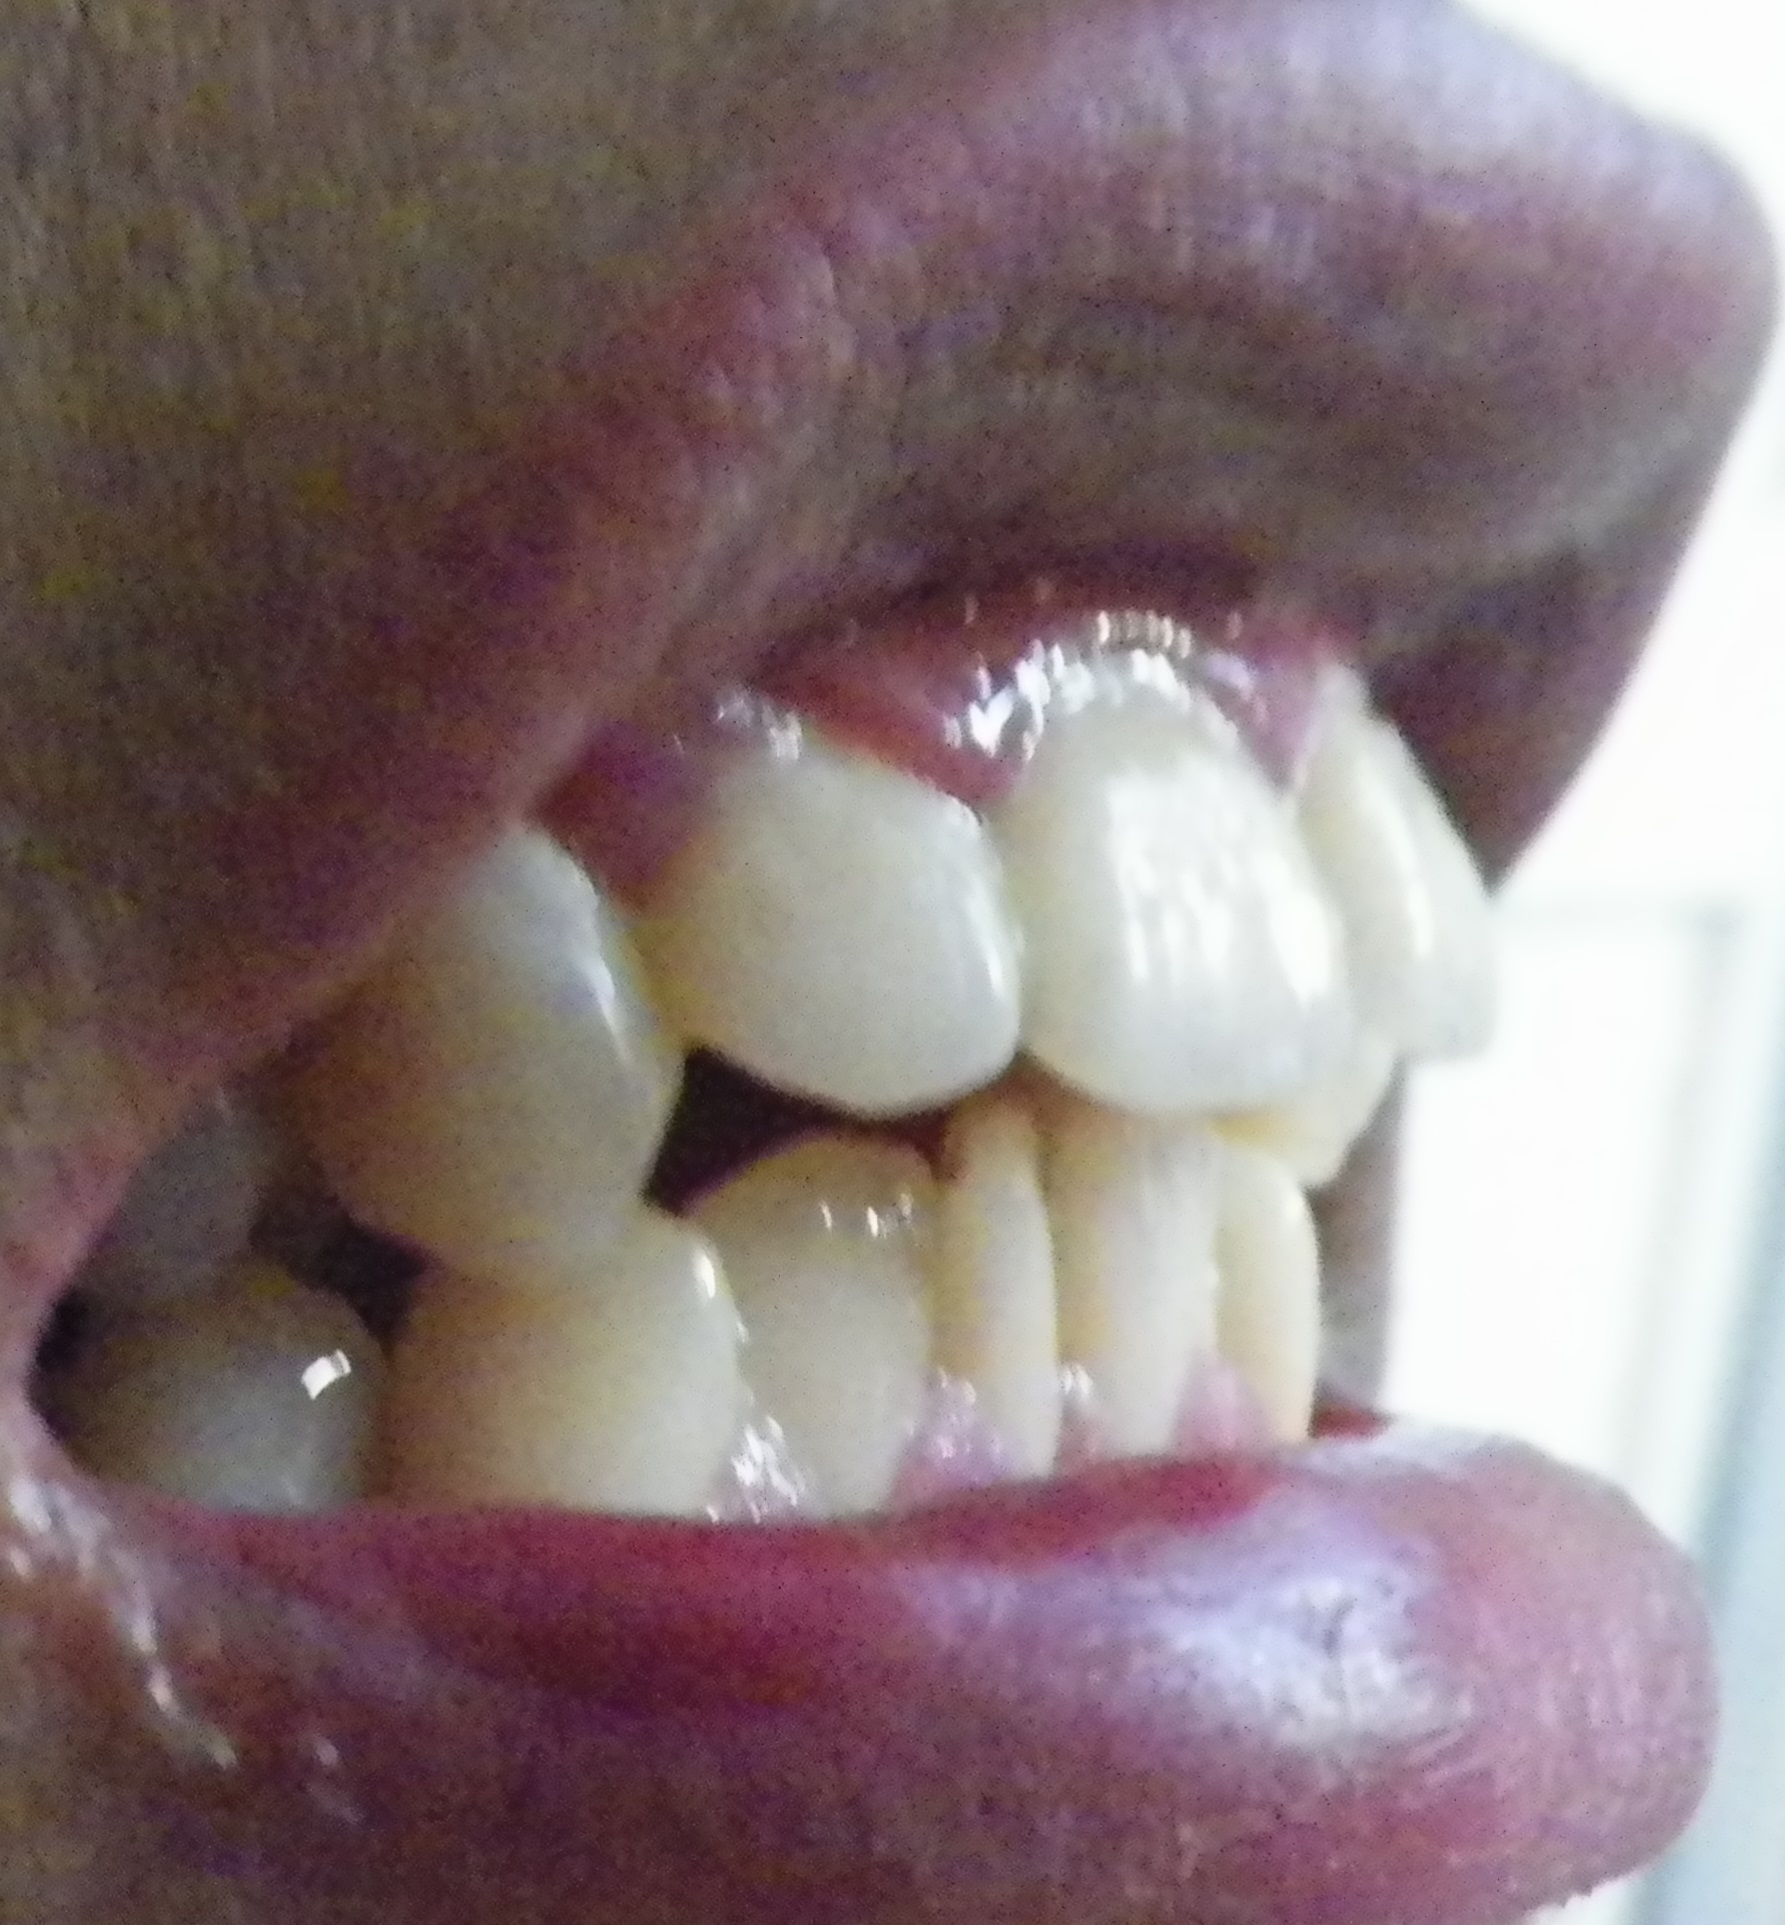boca: (60, 666, 1495, 1517)
